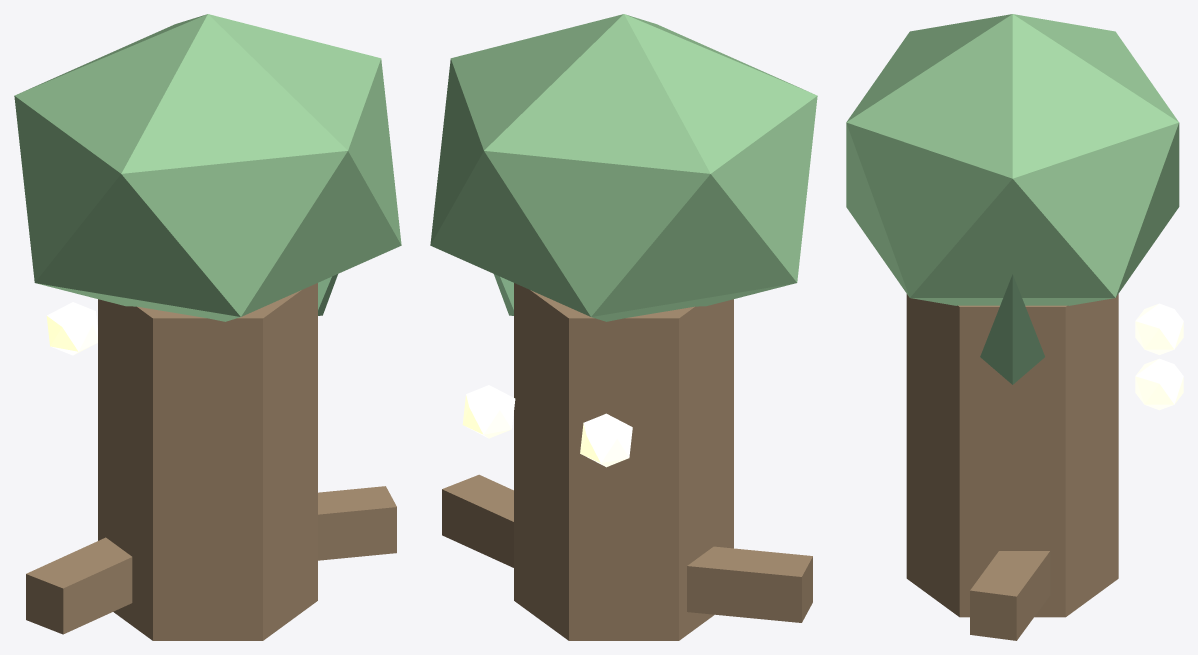
File: grove.glb
3 views of the same model, side by side, from view 1: azimuth 30°, elevation 25°; view 2: azimuth 150°, elevation 25°; view 3: azimuth 270°, elevation 25° (orthographic). The views are drawn at different scales.
Visible parts, largest first — view 1: grove_enemy; view 2: grove_enemy; view 3: grove_enemy.
Boxes of the visible parts, <box> form: grove_enemy: <box>14,14,401,640</box>; grove_enemy: <box>430,14,817,640</box>; grove_enemy: <box>846,14,1183,640</box>.
Size of the model in its own units: 0.4906 by 0.764 by 0.4139.
